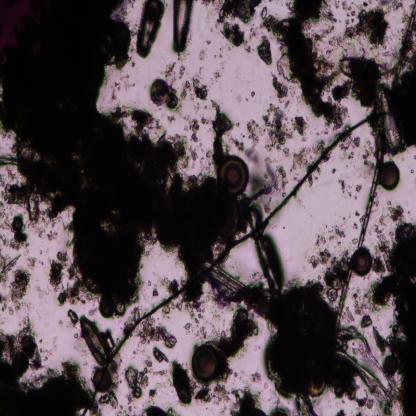Background material: (0, 0, 263, 302), (104, 96, 392, 367), (249, 273, 365, 406), (260, 0, 346, 134), (0, 322, 101, 416), (372, 220, 416, 416), (220, 308, 258, 388), (396, 1, 416, 151), (329, 52, 384, 106), (49, 249, 87, 323), (339, 1, 391, 45), (214, 0, 259, 50), (260, 103, 307, 149), (0, 251, 37, 309), (207, 96, 236, 164), (152, 60, 190, 111), (184, 282, 214, 342), (140, 316, 178, 361), (323, 249, 355, 300), (166, 356, 196, 407), (0, 208, 34, 252), (309, 225, 344, 267), (119, 365, 156, 399), (227, 387, 268, 416), (292, 138, 326, 170), (242, 119, 262, 165), (182, 115, 201, 163), (260, 160, 289, 190), (340, 135, 362, 162), (191, 74, 210, 104), (206, 58, 227, 84), (257, 37, 273, 68), (196, 36, 212, 66), (387, 200, 404, 226), (340, 179, 364, 197), (140, 402, 176, 414), (350, 208, 360, 233), (328, 164, 338, 178), (250, 89, 256, 97)
Cellulose filter fibre: (335, 324, 399, 414)
Diatom: (377, 84, 407, 157), (135, 2, 166, 56), (79, 314, 109, 366), (171, 0, 194, 52), (191, 342, 219, 383), (219, 159, 250, 193), (377, 160, 401, 190), (351, 248, 374, 278), (92, 368, 113, 396), (380, 352, 400, 373), (12, 354, 30, 374), (115, 302, 127, 316)
